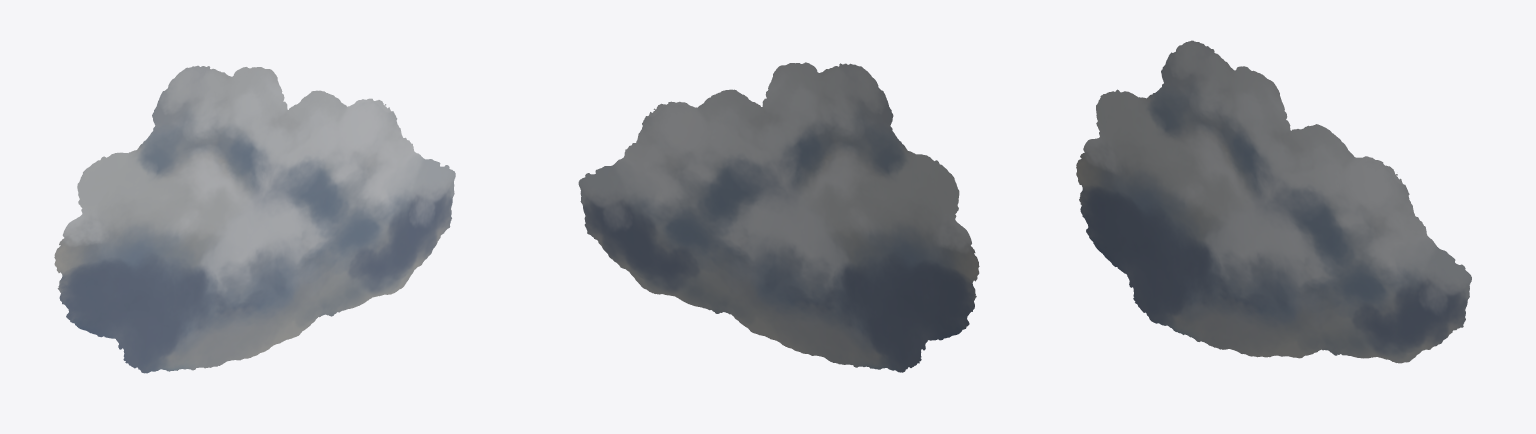
The model's file is cloudB.fbx.
The picture shows the model from 3 angles, left to right: view 1: azimuth 30°, elevation 25°; view 2: azimuth 150°, elevation 25°; view 3: azimuth 330°, elevation 25°; orthographic projection.
Visible parts, largest first — view 1: cloudB; view 2: cloudB; view 3: cloudB.
Boxes of the visible parts, left/top/right/bottom form: cloudB: left=54, top=65, right=455, bottom=373; cloudB: left=578, top=62, right=979, bottom=372; cloudB: left=1076, top=40, right=1471, bottom=363.
Bounding box in the file's own units: 691 × 492 × 30.11.
Materials: 1 (1 with a texture image).
